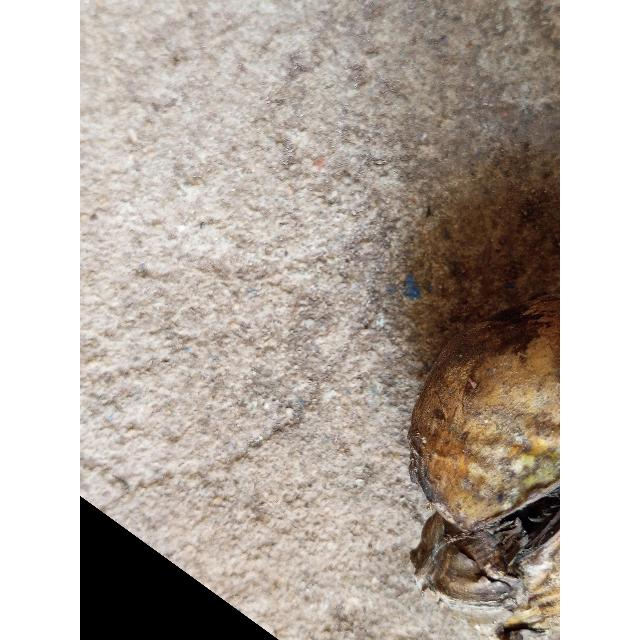damaged: (408, 296, 560, 640)
